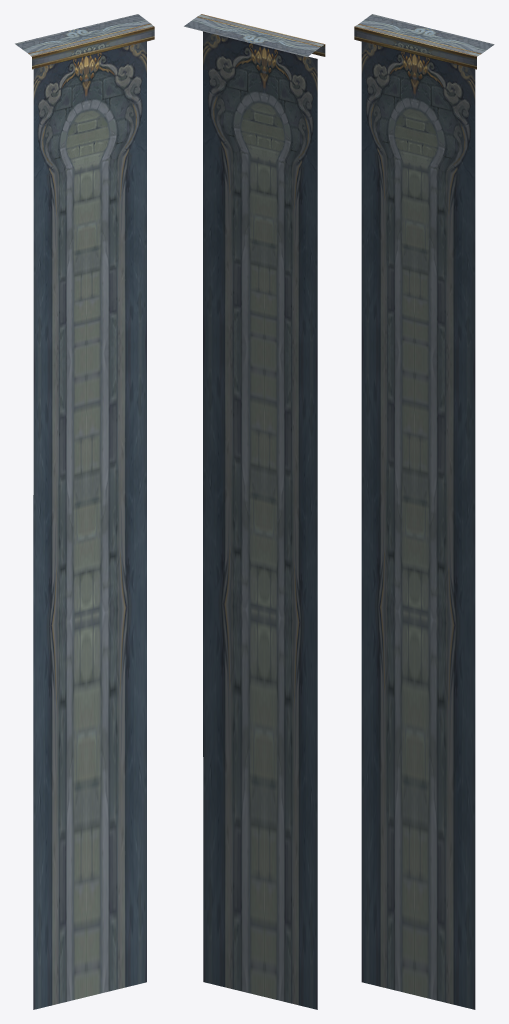
Rendered from fb_yuqinggong_pinjieqiang04.FBX.
3 views of the same model, side by side, from view 1: azimuth 30°, elevation 25°; view 2: azimuth 150°, elevation 25°; view 3: azimuth 330°, elevation 25° (orthographic).
Parts seen in each view (by area): view 1: fb_yuqinggong_pinjieqiang04; view 2: fb_yuqinggong_pinjieqiang04; view 3: fb_yuqinggong_pinjieqiang04.
Part boxes in pixels (x1,y1,x2,y2): fb_yuqinggong_pinjieqiang04: (15,14,154,1009); fb_yuqinggong_pinjieqiang04: (184,14,325,1009); fb_yuqinggong_pinjieqiang04: (354,14,494,1009).
Bounding box in the file's own units: 317 × 2345 × 78.8.
